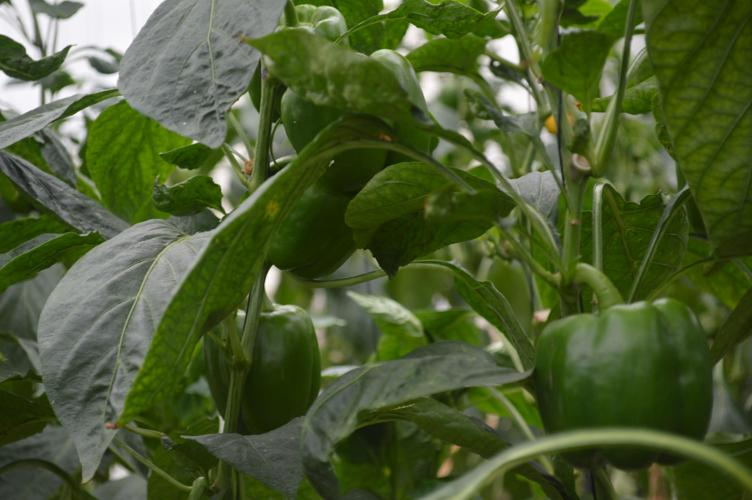BellPepper: (540, 297, 707, 463), (280, 44, 434, 176), (194, 304, 318, 428), (264, 186, 356, 282)
